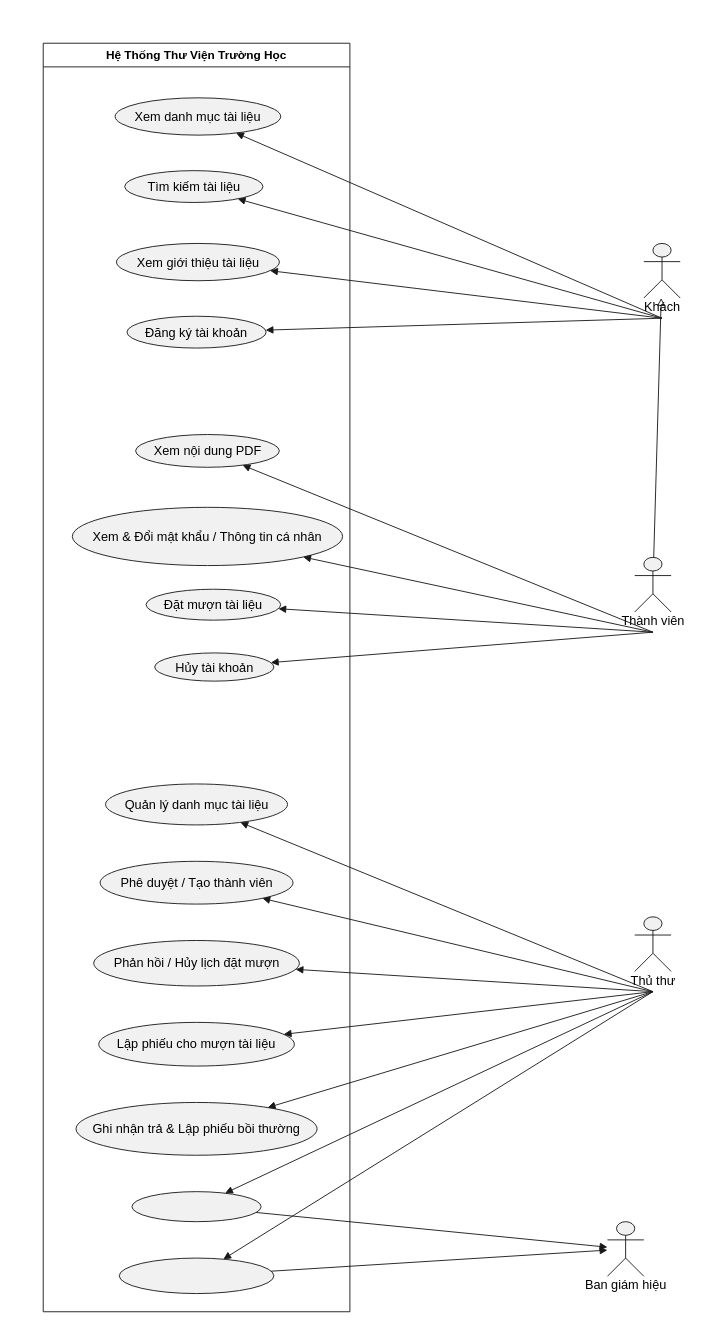
Image size: 706x1328. Some labels were removed from this diagram. The shapes that lost their labels are listed below. From the top down, each one's box as (x1, y1, x2, y2) in pixels, then its label:
(131, 1191, 261, 1222): Kiểm kê tài liệu
(118, 1257, 274, 1294): Lập báo cáo định kỳ
